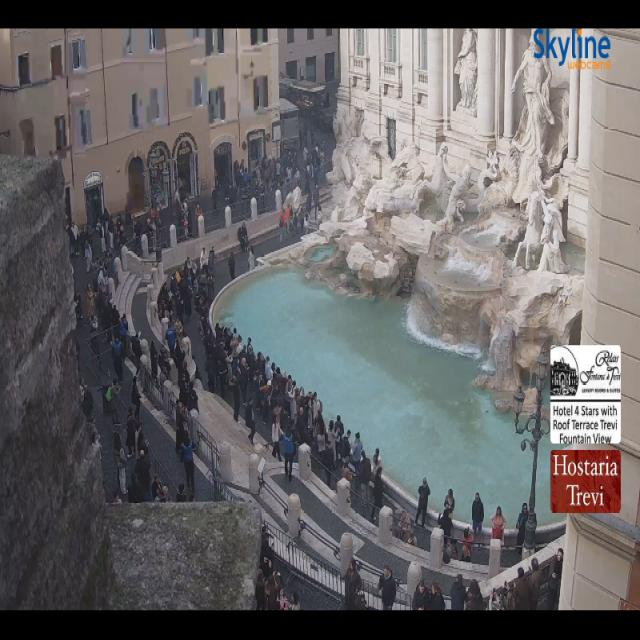person: (291, 388, 334, 471), (225, 329, 271, 404), (205, 324, 237, 396), (252, 352, 289, 412), (176, 259, 201, 340), (159, 260, 190, 323), (488, 569, 530, 610), (112, 209, 147, 252), (158, 271, 185, 324), (82, 232, 106, 290), (86, 259, 107, 325), (230, 335, 249, 405), (93, 268, 110, 341), (174, 326, 189, 408), (259, 357, 283, 408), (335, 416, 362, 461), (98, 285, 119, 342), (241, 343, 259, 407), (92, 251, 110, 315), (503, 569, 531, 610), (88, 291, 104, 359), (259, 357, 275, 422), (158, 277, 179, 325), (174, 339, 189, 405), (238, 165, 259, 212), (272, 364, 292, 413), (344, 558, 362, 610), (548, 549, 563, 610), (135, 450, 152, 501), (232, 335, 247, 391), (114, 431, 127, 495), (256, 374, 272, 425), (247, 337, 264, 384), (488, 581, 515, 610), (176, 257, 198, 292), (378, 566, 395, 610), (260, 524, 274, 577), (182, 436, 195, 493), (415, 478, 430, 527), (172, 321, 183, 387), (268, 363, 283, 411), (105, 379, 121, 424), (102, 216, 115, 271), (314, 401, 328, 452), (178, 257, 196, 296), (464, 579, 486, 610), (528, 558, 541, 610), (284, 375, 299, 420), (371, 467, 383, 521), (513, 567, 528, 610), (321, 435, 333, 488), (99, 207, 113, 252), (516, 503, 528, 555), (485, 582, 507, 610), (80, 225, 93, 272), (205, 344, 217, 393), (126, 408, 138, 457), (96, 209, 109, 254), (176, 400, 187, 453), (283, 428, 294, 480), (272, 152, 291, 182), (360, 450, 371, 501), (491, 506, 506, 543), (196, 269, 207, 319), (393, 511, 411, 541), (264, 574, 279, 610), (99, 209, 111, 253), (472, 493, 483, 541), (451, 575, 466, 610), (412, 581, 430, 610), (260, 525, 273, 565), (112, 335, 123, 382), (351, 432, 363, 475), (174, 312, 184, 363), (107, 299, 120, 338), (438, 509, 452, 545), (281, 157, 295, 193), (285, 375, 296, 420), (176, 201, 190, 236), (218, 346, 227, 399), (181, 276, 192, 319), (245, 397, 255, 444), (230, 375, 240, 422), (272, 414, 282, 461), (158, 282, 171, 318), (429, 581, 445, 610), (115, 207, 132, 234), (310, 392, 323, 427), (128, 472, 143, 502), (314, 418, 325, 458), (303, 148, 313, 192), (136, 422, 147, 460), (296, 406, 307, 443), (132, 375, 141, 420), (305, 391, 314, 435), (119, 315, 128, 359), (152, 213, 163, 249), (90, 316, 99, 359), (82, 385, 93, 420), (158, 346, 170, 378), (327, 421, 335, 469), (260, 547, 272, 579), (296, 387, 306, 425), (462, 528, 473, 562), (131, 333, 142, 367), (308, 143, 319, 177), (264, 158, 275, 192), (187, 382, 199, 413), (256, 569, 265, 610), (165, 324, 176, 357), (148, 201, 160, 231), (444, 538, 458, 563), (146, 215, 155, 252), (115, 216, 125, 249), (175, 293, 183, 333), (238, 165, 247, 200), (287, 170, 302, 191), (150, 475, 162, 501), (150, 339, 158, 378), (341, 430, 351, 461), (444, 489, 455, 517), (170, 269, 181, 297), (314, 141, 325, 169), (233, 161, 241, 199), (212, 176, 220, 214), (206, 268, 215, 301), (74, 293, 83, 324), (342, 461, 353, 486), (86, 284, 94, 318), (71, 222, 79, 256), (80, 377, 87, 415), (308, 157, 315, 195), (372, 448, 381, 477), (273, 571, 283, 597), (278, 587, 289, 610), (314, 183, 321, 219), (279, 209, 286, 245), (152, 475, 162, 500), (107, 219, 115, 250), (84, 242, 92, 272), (296, 207, 304, 237), (182, 202, 189, 236), (157, 485, 171, 502), (237, 226, 246, 252), (102, 207, 110, 236), (284, 205, 291, 236), (98, 269, 107, 293), (80, 229, 88, 256), (99, 225, 106, 254), (133, 220, 143, 240), (176, 484, 187, 502), (290, 591, 300, 610), (241, 223, 248, 250), (228, 253, 235, 280), (264, 356, 271, 382), (208, 246, 215, 272), (407, 528, 417, 546), (248, 246, 255, 271), (174, 188, 181, 212), (246, 337, 254, 358), (200, 247, 207, 270), (305, 194, 311, 219), (292, 150, 299, 171), (260, 157, 267, 178), (314, 143, 320, 167), (316, 202, 322, 226), (112, 491, 122, 504), (302, 214, 308, 235), (276, 161, 281, 186), (294, 167, 300, 186), (80, 377, 84, 404), (309, 125, 314, 146), (304, 123, 308, 147), (324, 92, 330, 107), (243, 169, 248, 187), (287, 166, 292, 182), (299, 129, 303, 148), (189, 494, 195, 502)
